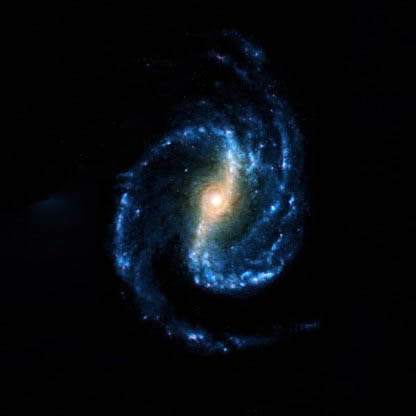NGC 1300: (105, 31, 309, 365)
